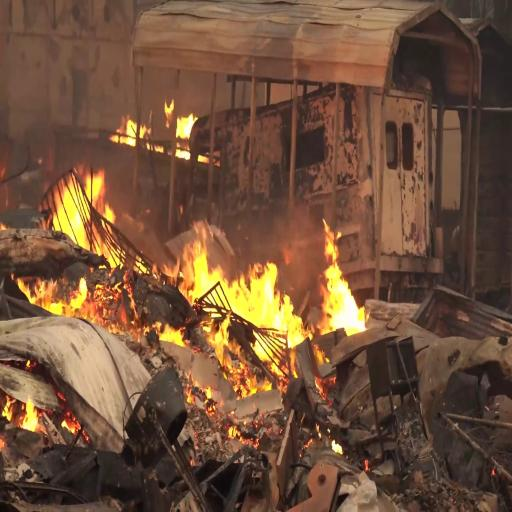fire: (192, 244, 295, 324), (323, 210, 371, 340), (50, 171, 112, 257)
